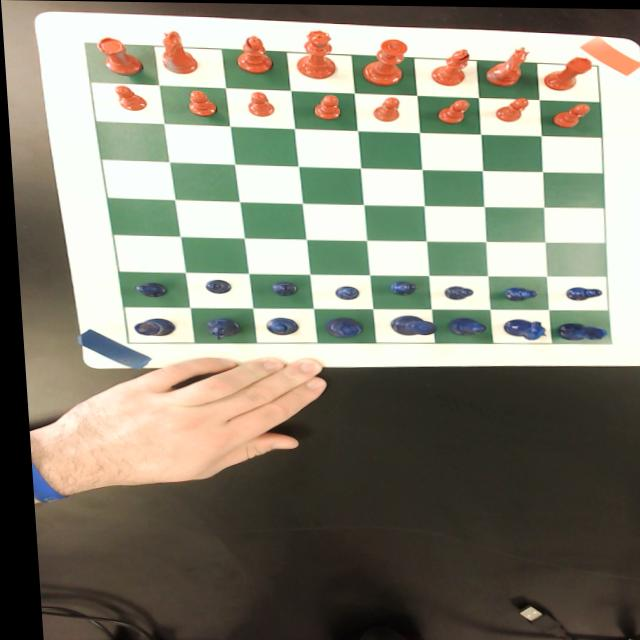B: (442, 315, 484, 335), (259, 316, 294, 335)
K: (385, 314, 433, 334)
N: (496, 317, 544, 340), (199, 317, 237, 340)
P: (559, 285, 600, 300), (130, 281, 165, 298), (497, 285, 533, 301), (199, 279, 230, 294), (384, 279, 413, 295), (266, 280, 294, 296), (439, 285, 470, 299), (328, 285, 355, 300)
Q: (319, 316, 360, 338)
R: (551, 321, 604, 340), (128, 317, 172, 337)
b: (428, 47, 470, 85), (232, 35, 272, 73)
k: (358, 37, 408, 86)
n: (482, 45, 530, 86), (157, 30, 198, 74)
p: (109, 85, 147, 111), (548, 102, 589, 126), (492, 96, 529, 122), (433, 98, 469, 122), (184, 89, 216, 116), (310, 93, 340, 119), (370, 96, 400, 121), (245, 91, 273, 116)
q: (293, 29, 335, 78)
r: (94, 37, 142, 77), (540, 55, 593, 90)
